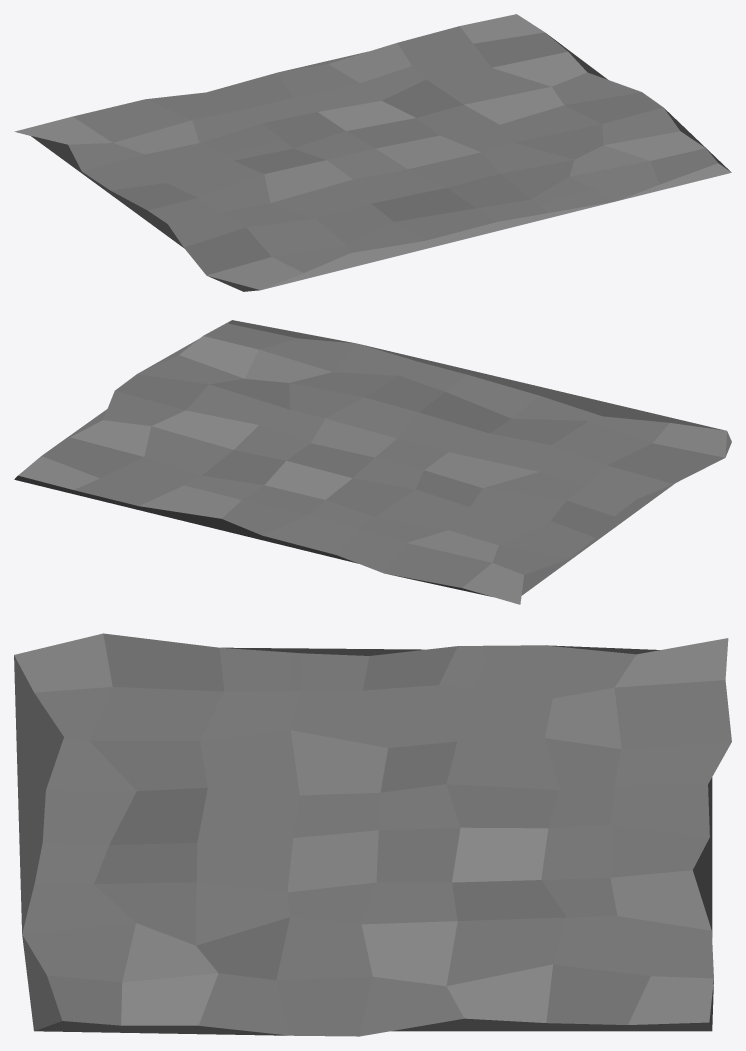
The model's file is BathMatModel.fbx.
3 views of the same model, one above another, from view 1: azimuth 30°, elevation 25°; view 2: azimuth 150°, elevation 25°; view 3: azimuth 270°, elevation 25° (orthographic). The views are drawn at different scales.
Visible parts, largest first — view 1: BathMatModel; view 2: BathMatModel; view 3: BathMatModel.
Part boxes in pixels (box(x1,y1,x2,y2)): BathMatModel: box(14, 14, 731, 291); BathMatModel: box(14, 320, 731, 604); BathMatModel: box(14, 633, 731, 1036).
Size of the model in its own units: 165 by 1.81 by 125.
